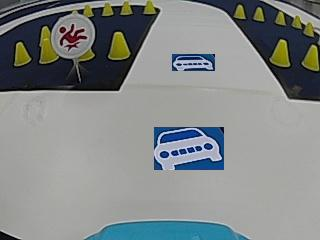cone: (107, 30, 130, 61), (269, 39, 291, 68), (301, 43, 318, 72), (38, 39, 57, 64), (13, 41, 30, 66), (233, 4, 246, 20), (143, 0, 156, 15), (120, 0, 132, 16), (274, 10, 286, 26), (101, 1, 113, 16), (253, 6, 264, 22), (82, 3, 94, 17), (304, 20, 313, 37), (292, 14, 301, 29)
tumble: (58, 23, 86, 52)
